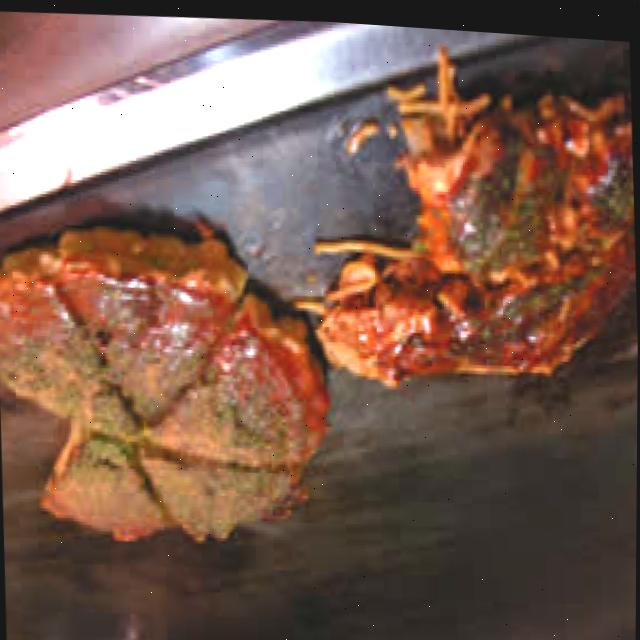蛋糕甜品: (0, 208, 336, 575)
